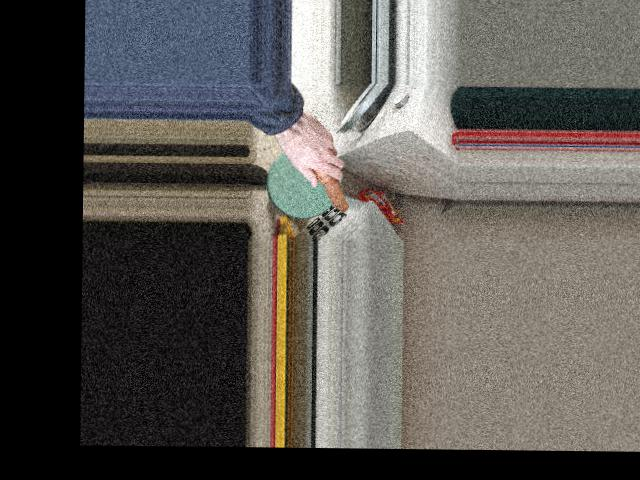sweet_potato: (294, 135, 350, 209)
